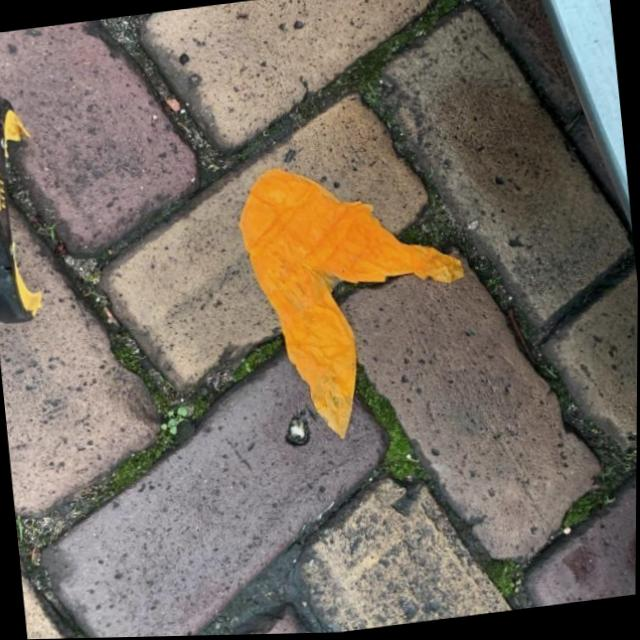Paper: (227, 145, 483, 454)
